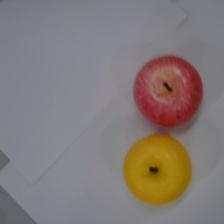red: (133, 54, 203, 127)
yellow: (122, 134, 191, 204)
